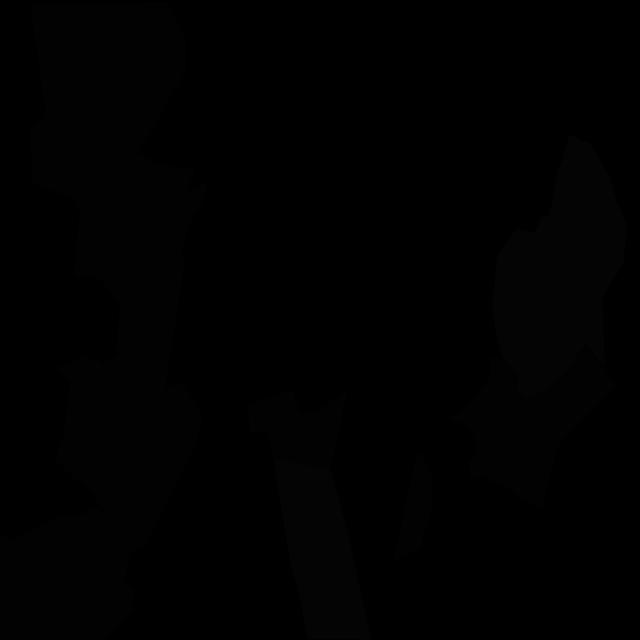cardboard: (30, 1, 207, 250), (55, 356, 202, 553), (449, 344, 618, 509), (74, 161, 184, 399), (0, 505, 134, 640), (248, 389, 348, 470), (394, 450, 432, 560)
soft_plastic: (492, 134, 627, 401), (273, 458, 371, 640)
